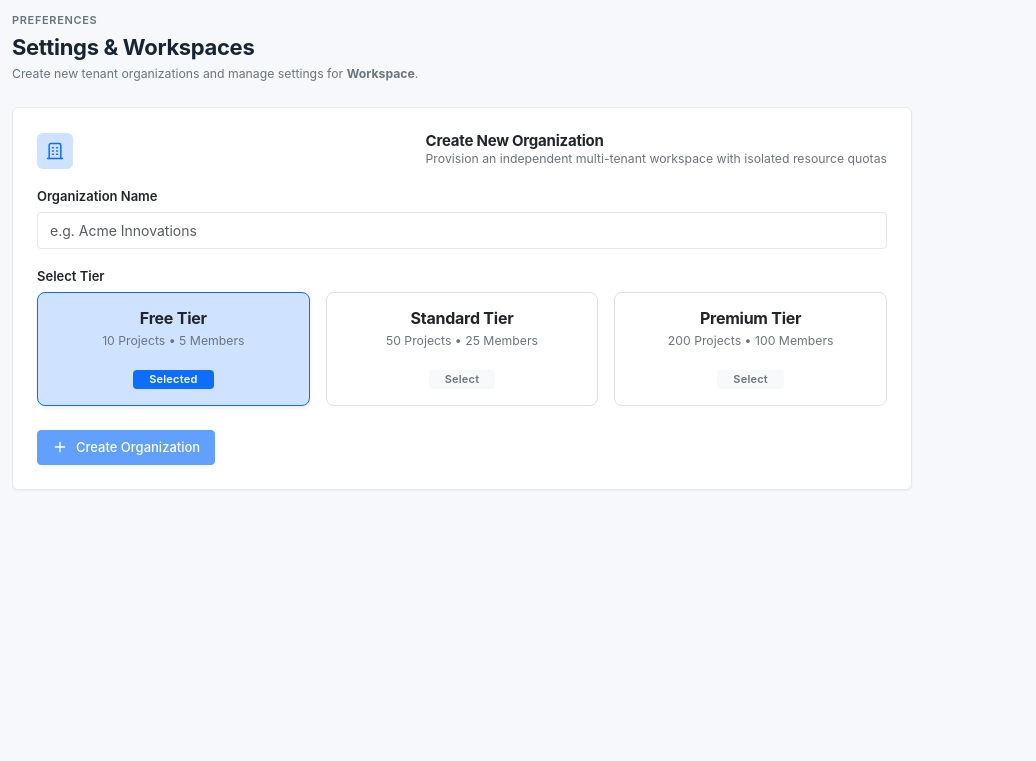
Test: Frontend Workspace Integration & Modals (Phase 10) › creates an organization via SettingsPage
The width and height of the screenshot is (1036, 761).
Check: the heading "Settings & Workspaces" is shown, box [12, 34, 254, 60]
Fill in new org name
Type "Beta Labs Global" into the field with placeholder "e.g. Acme Innovations".
click(462, 230); type("Beta Labs Global")  # box [37, 212, 887, 249]
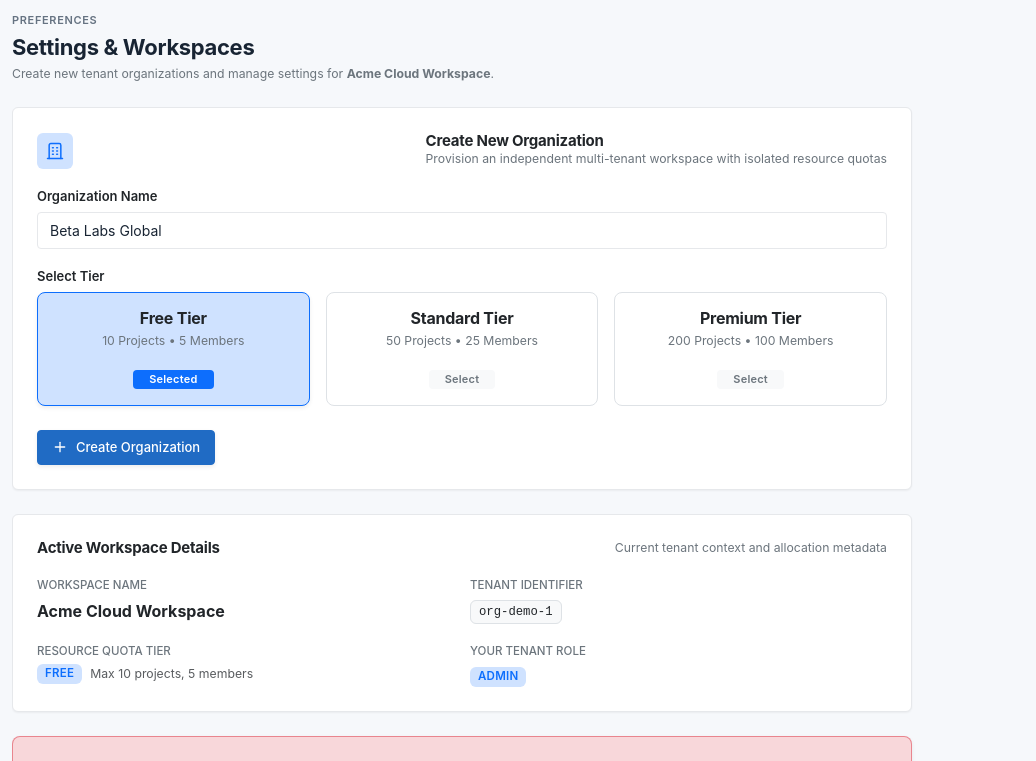
Select Standard tier
Click the heading "Standard Tier".
click(462, 318)  # box [410, 308, 514, 328]
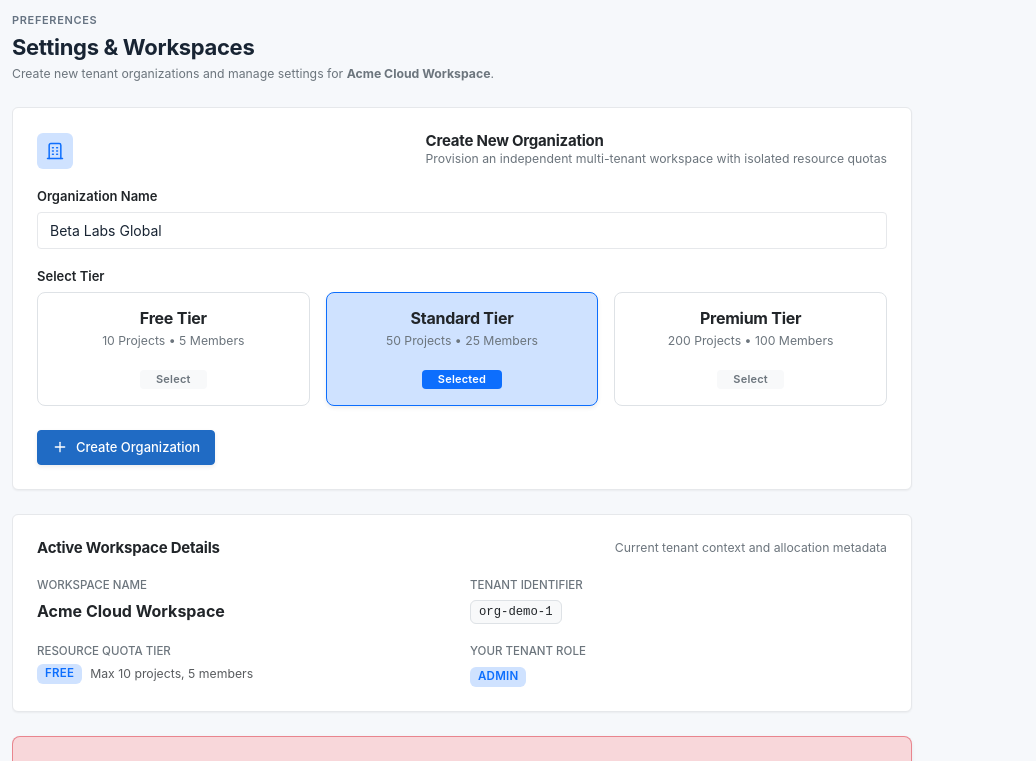
Submit form
Click the button "Create Organization".
click(126, 447)  # box [37, 430, 215, 465]
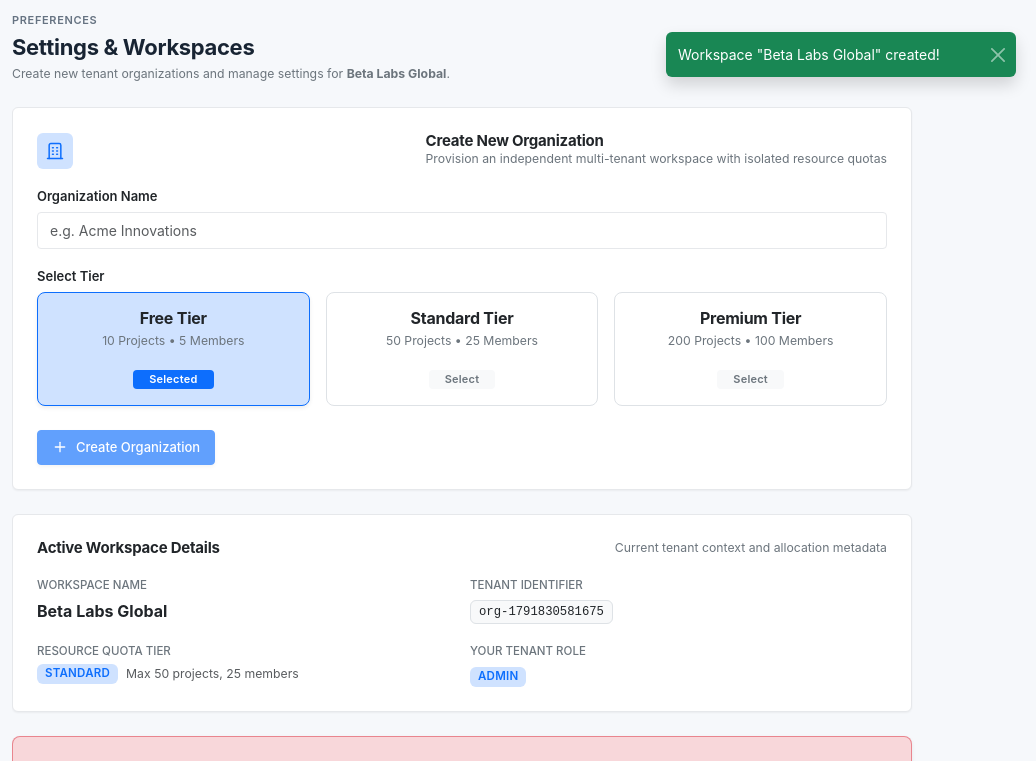
Check: the text "Beta Labs Global" below "Settings & Workspaces" is shown, box [347, 66, 446, 81]
